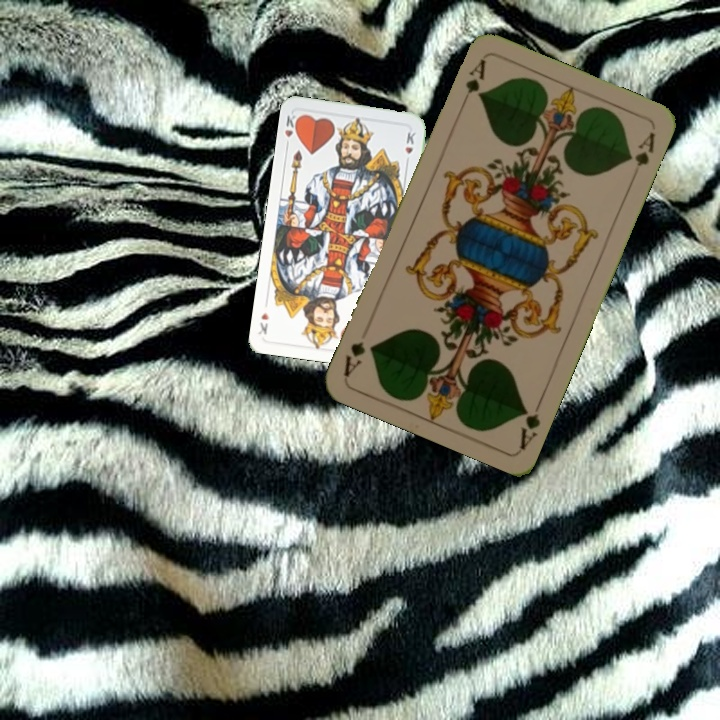GA: (456, 55, 488, 112), (516, 394, 545, 452)
HK: (281, 111, 302, 150)
